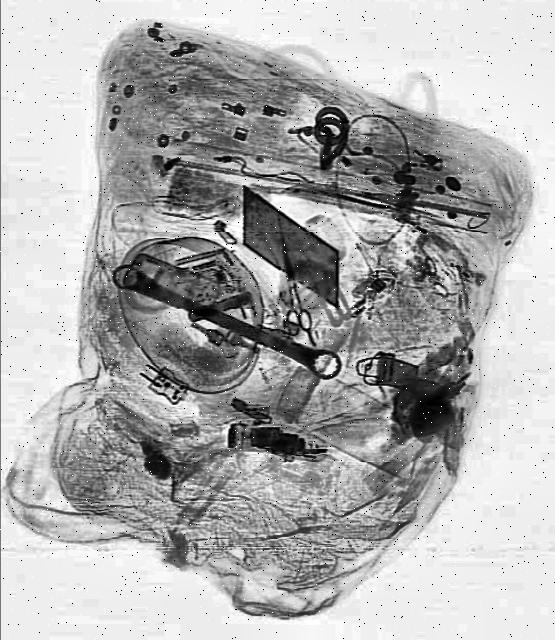Wrench: (106, 258, 344, 388)
